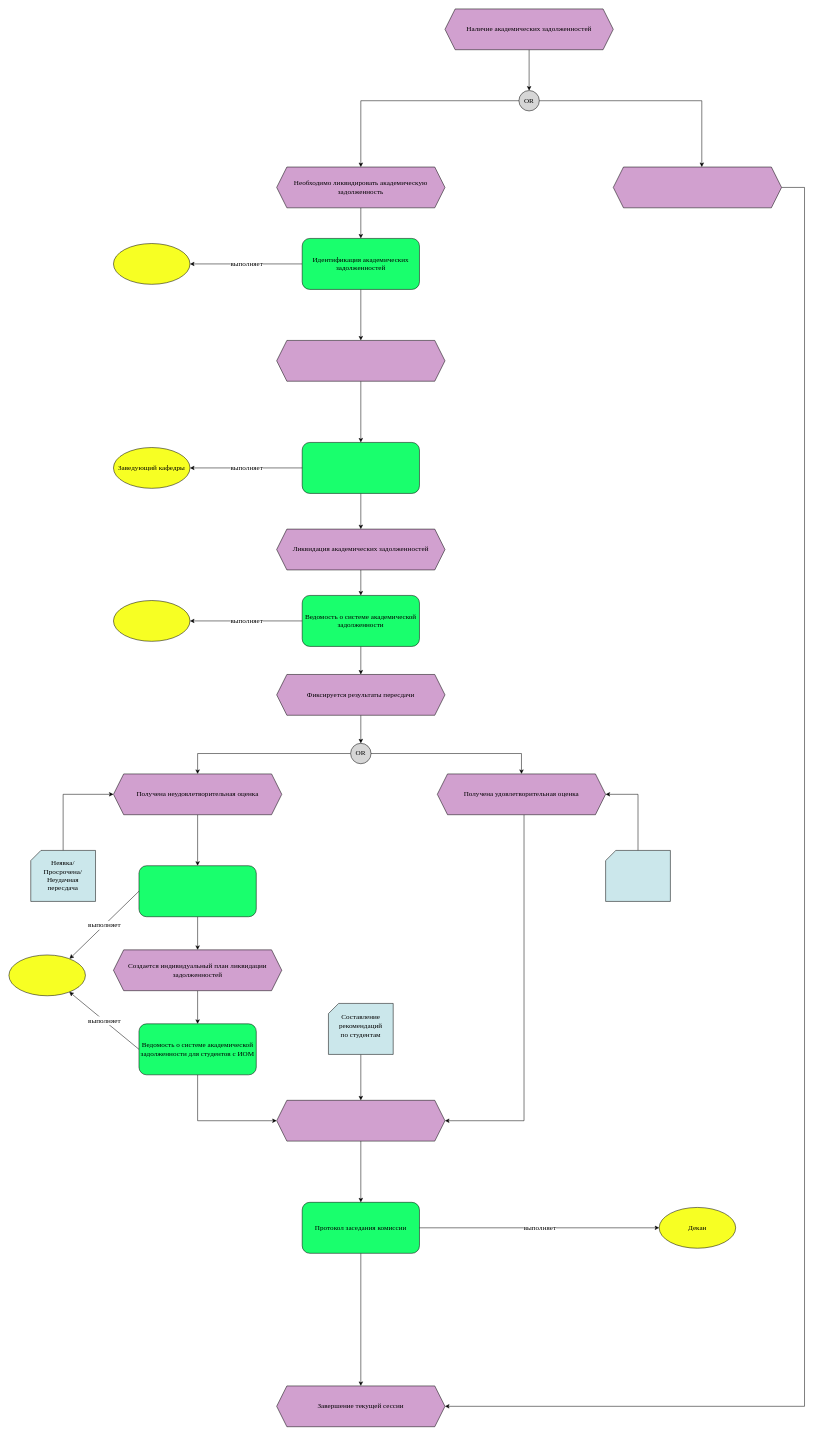
Image size: 818x1436. Some labels were removed from this diagram. The shapes that lost their labels are listed below. From the top down, each one's box as (x1, y1, x2, y2) in pixels, then its label:
(613, 167, 782, 208): Студент не имеет академическую задолженность
(113, 243, 190, 284): Студент
(276, 340, 445, 381): Подготовка к пересдаче
(302, 442, 419, 493): Направление на пересдачу
(113, 600, 190, 641): Преподаватель
(138, 865, 256, 917): Заявление на продление сроков ликвидации задолженности
(605, 850, 670, 901): Успешная пересдача
(8, 954, 85, 996): Ректор
(276, 1100, 445, 1141): Фиксируются рекомендации по студентам
